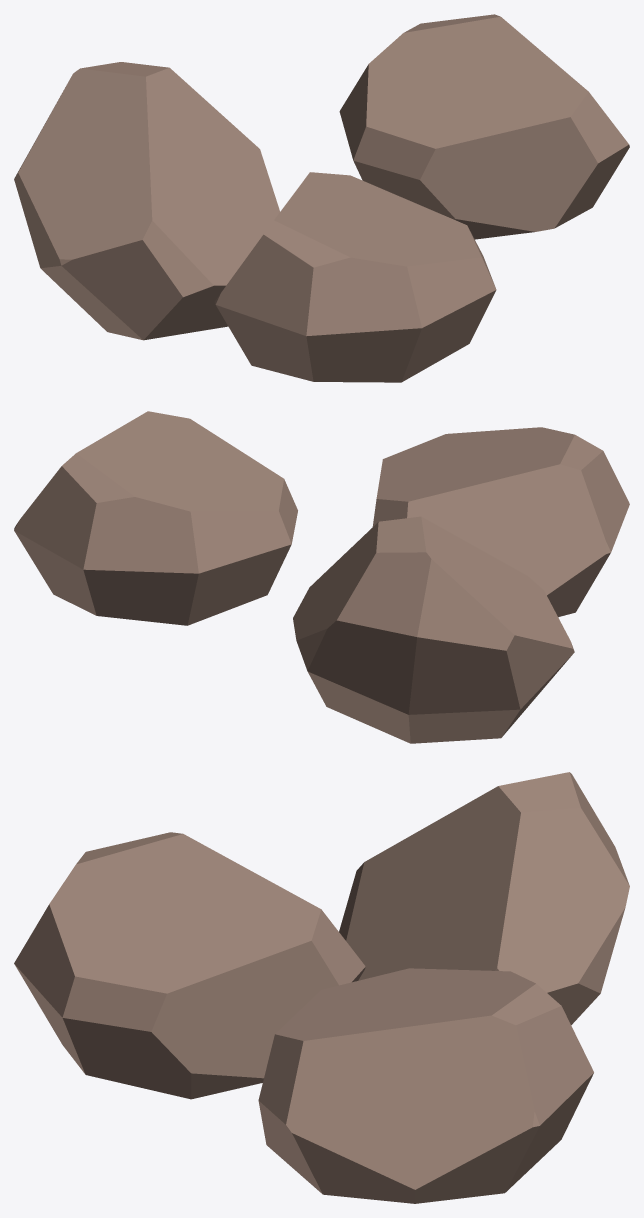
The model's file is rocks.glb.
3 renders of one model, top to bottom at view 1: azimuth 30°, elevation 25°; view 2: azimuth 150°, elevation 25°; view 3: azimuth 270°, elevation 25°, orthographic. The views are drawn at different scales.
Parts seen in each view (by area): view 1: Rock.002, Rock.001, Rock; view 2: Rock.002, Rock.001, Rock; view 3: Rock.001, Rock, Rock.002.
Part boxes in pixels (x1=…): Rock.002: x1=14, y1=62, x2=279, y2=340; Rock.001: x1=339, y1=14, x2=629, y2=239; Rock: x1=214, y1=172, x2=496, y2=382; Rock.002: x1=293, y1=516, x2=574, y2=743; Rock.001: x1=14, y1=411, x2=297, y2=625; Rock: x1=372, y1=427, x2=629, y2=617; Rock.001: x1=258, y1=968, x2=593, y2=1203; Rock: x1=14, y1=832, x2=365, y2=1099; Rock.002: x1=339, y1=772, x2=629, y2=1025.
Size of the model in its own units: 2.05 by 0.8569 by 1.73.
